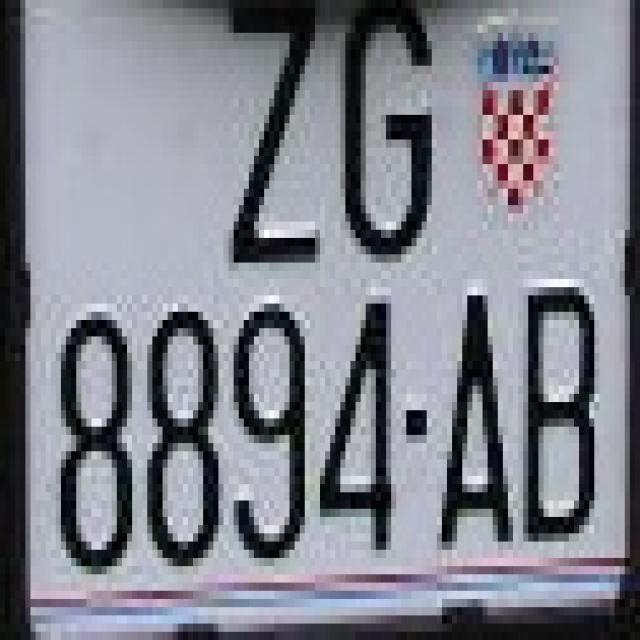4: (320, 296, 391, 566)
8: (46, 312, 132, 574), (137, 296, 219, 566)
9: (228, 296, 310, 566)
A: (432, 287, 508, 542)
B: (518, 271, 599, 558)
G: (335, 0, 436, 254)
Z: (213, 8, 320, 271)
